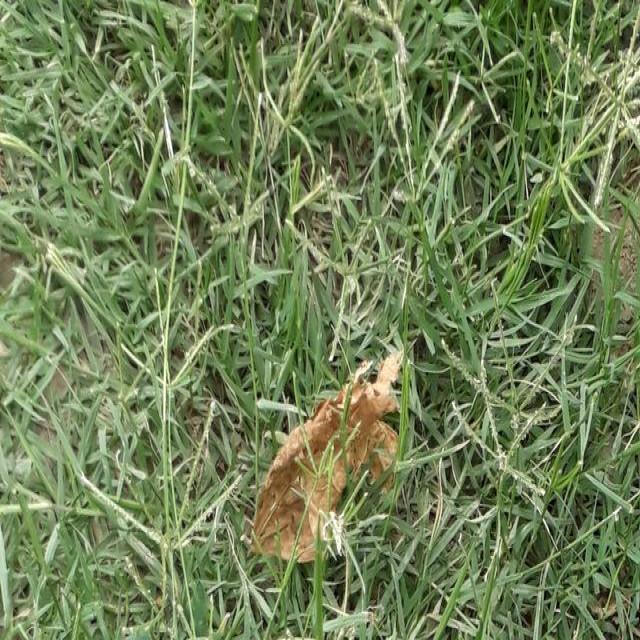weed: (2, 22, 248, 640), (331, 44, 640, 358), (408, 389, 630, 640)
